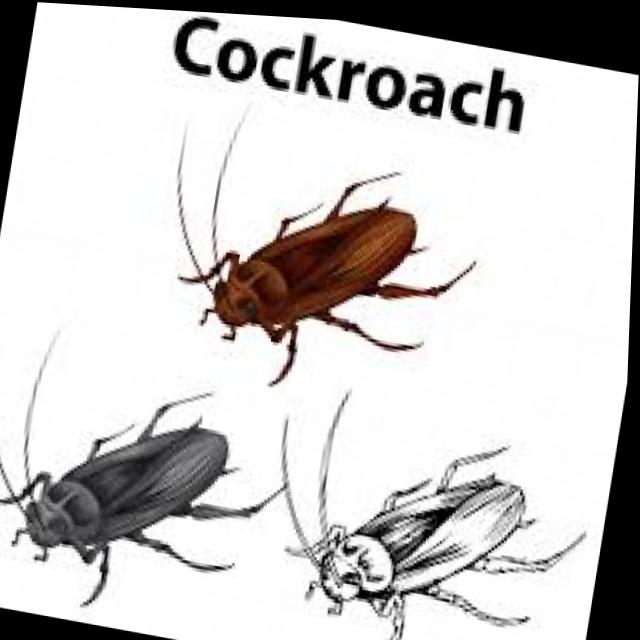Cockroach: (120, 106, 492, 424), (236, 382, 620, 640), (0, 330, 297, 637)
